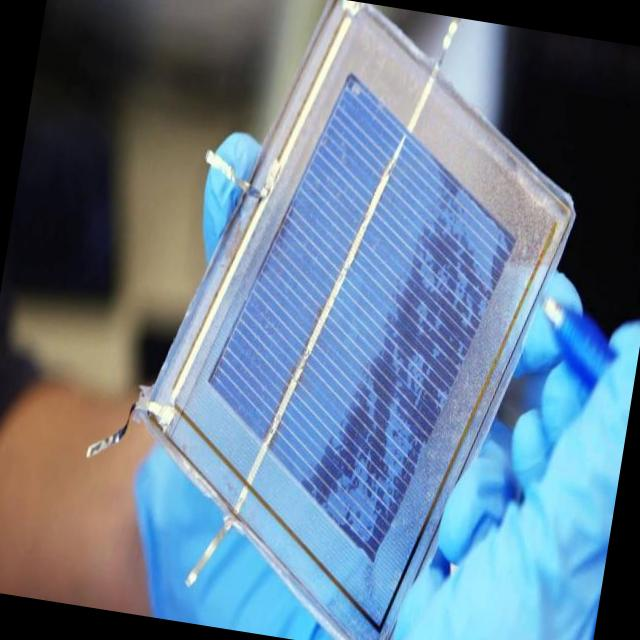no faulty: (209, 79, 512, 555)
